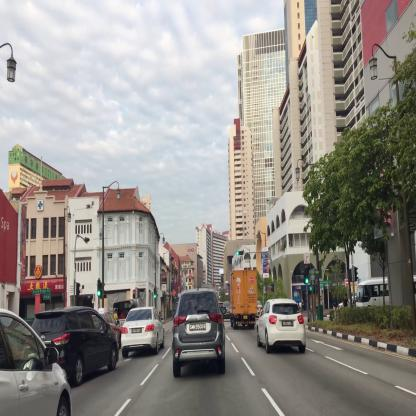green_traffic_light: (305, 269, 309, 283), (97, 280, 100, 296), (153, 288, 156, 298), (236, 251, 243, 255)
